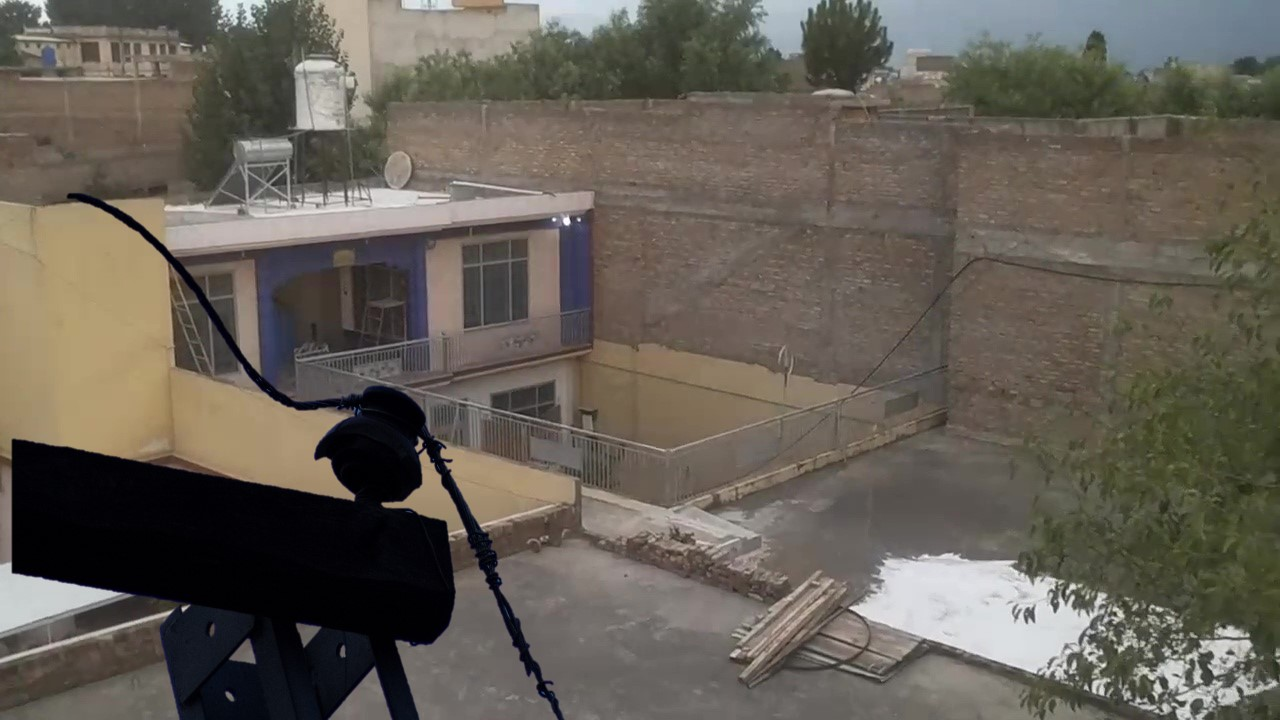defect_pin: (311, 380, 436, 502)
